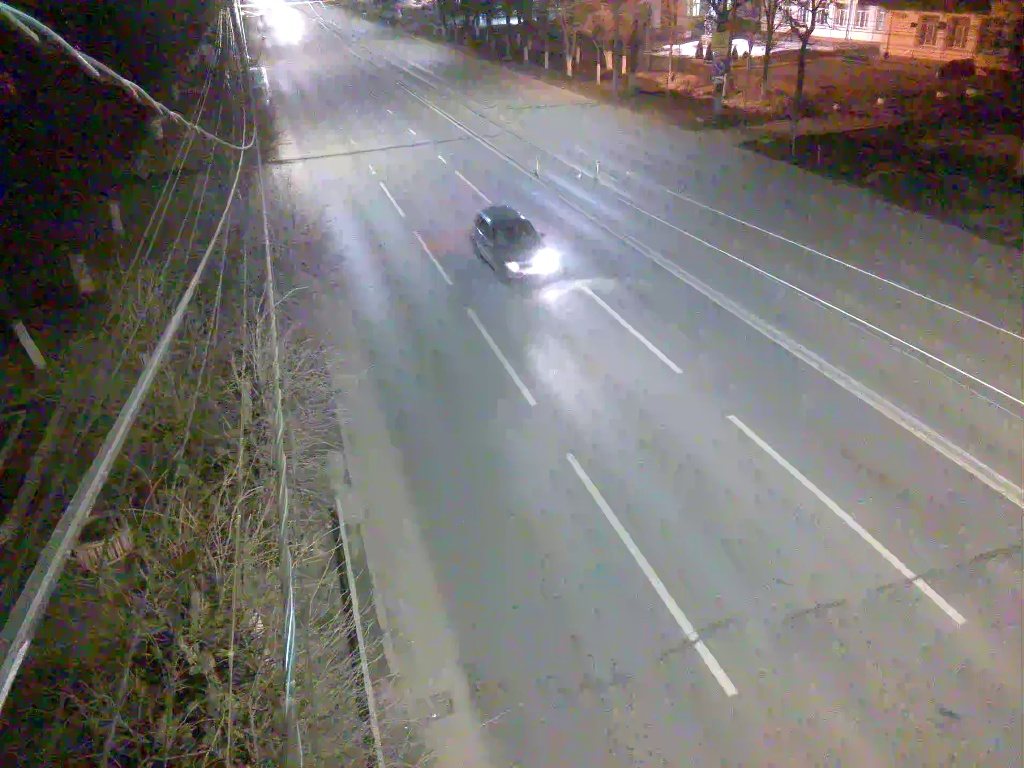car: (467, 198, 575, 300)
